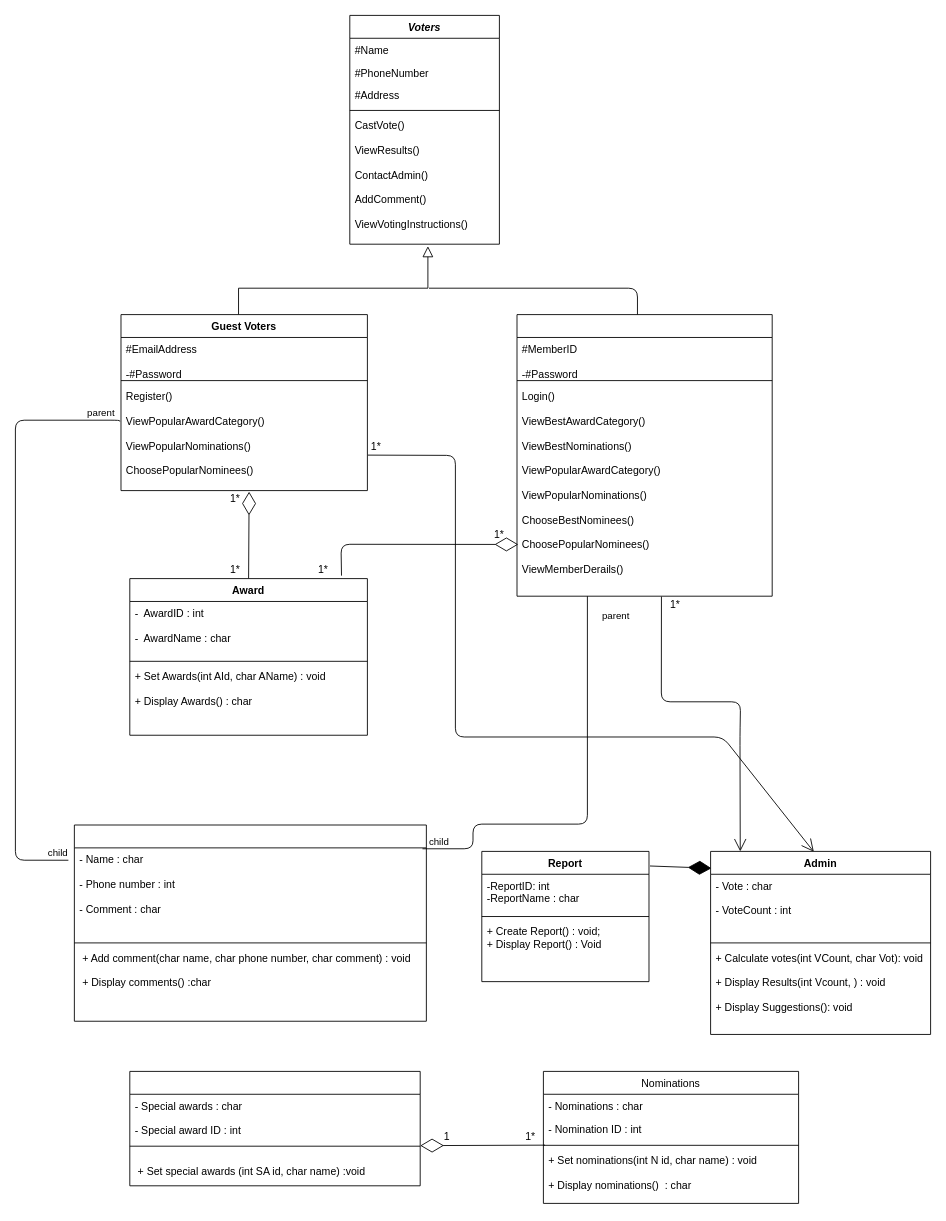
Image size: 946x1221. Some labels were removed from this diagram. Here are the shapes that lost their labels. From the top down, the box of each, then its label:
(516, 314, 772, 596): Member Voters
(73, 824, 426, 1021): Public comment section
(129, 1071, 420, 1186): Judge
